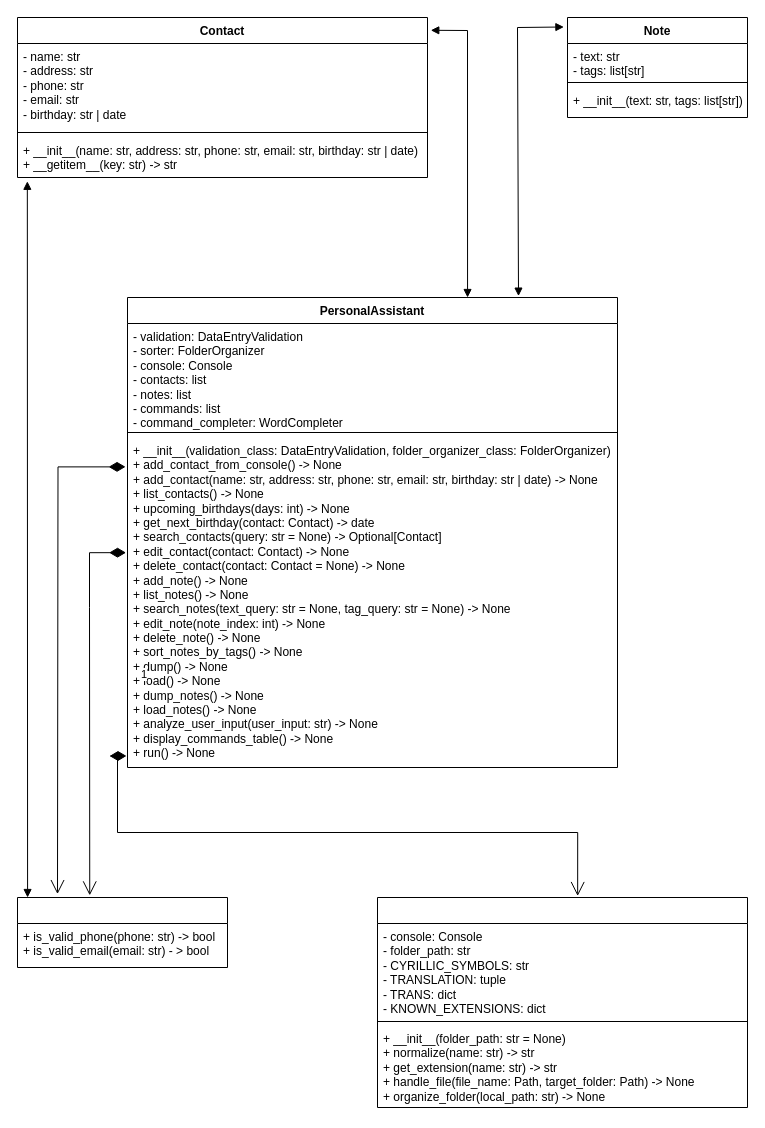
Image size: 765x1128. Some labels were removed from this diagram. The shapes that lost their labels are listed below. From the top down, each one's box as (x1, y1, x2, y2) in pixels, then its label:
(16, 896, 228, 968): DataEntryValidation
(376, 896, 748, 1108): FolderOrganizer
